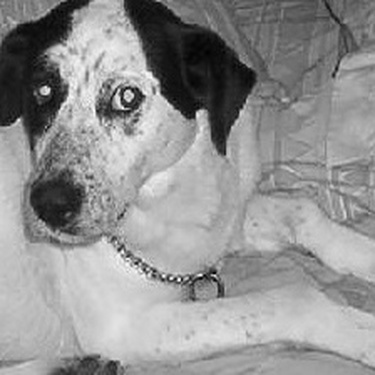dog: (3, 2, 370, 371)
